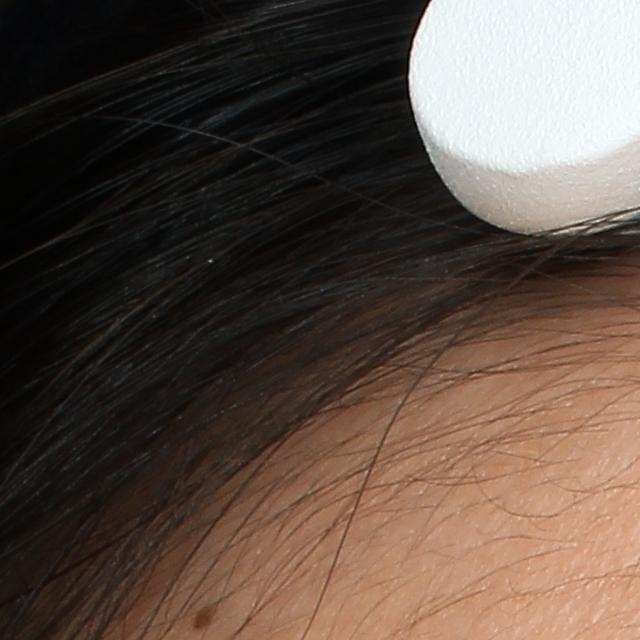nevus: (191, 597, 223, 632)
